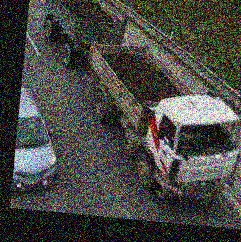car: (11, 87, 68, 197)
